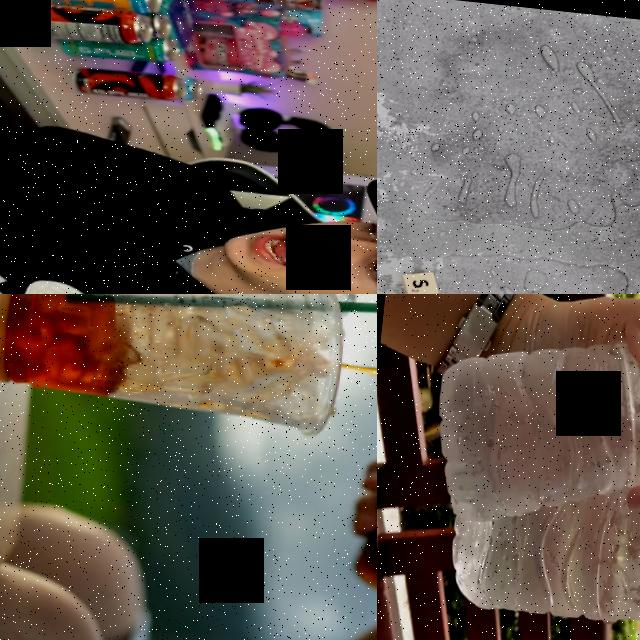bottle: (423, 294, 640, 561), (444, 458, 640, 640)
can: (8, 0, 153, 50), (70, 64, 185, 105), (23, 0, 161, 17)
cup: (0, 294, 352, 441)
